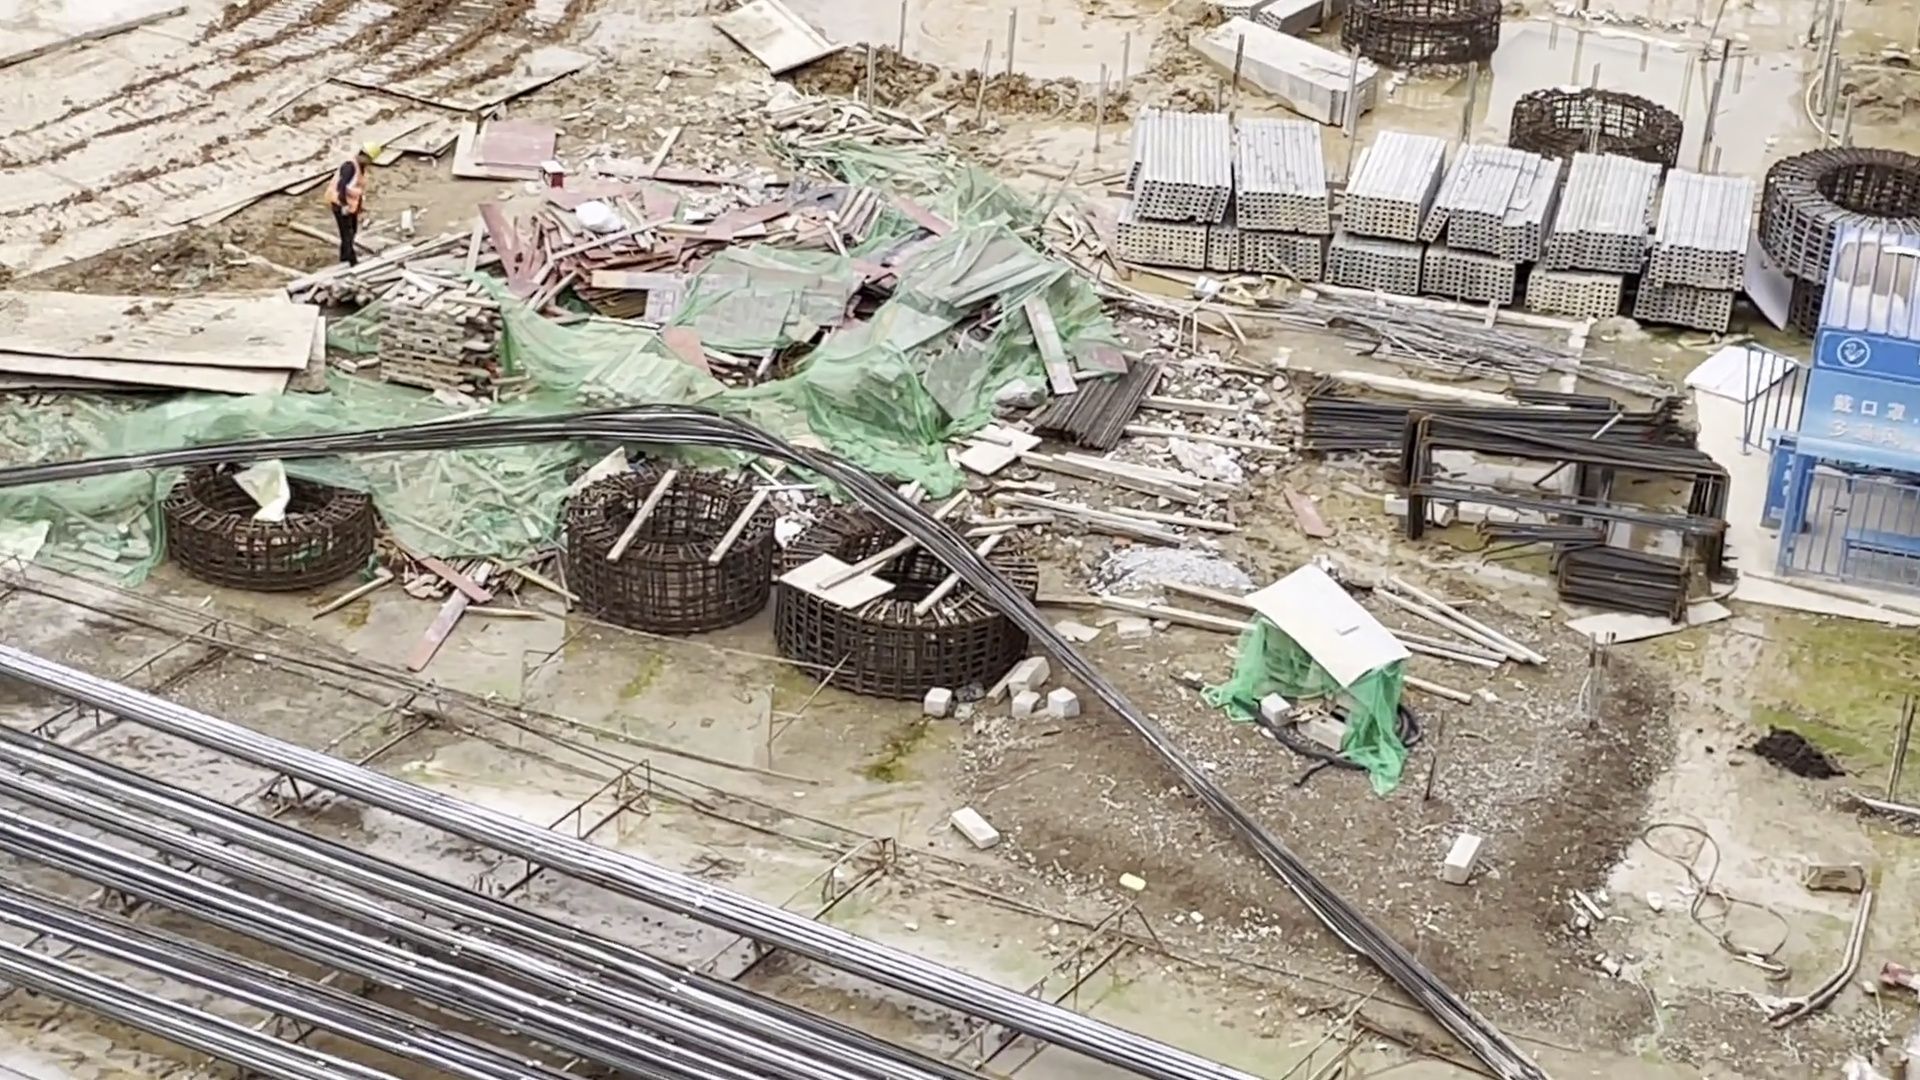board: (487, 179, 737, 303)
helmet: (361, 139, 385, 159)
person: (323, 131, 378, 268)
rebar: (39, 709, 859, 1080)
scaffold: (1112, 114, 1748, 316), (1199, 2, 1382, 128)
slogan: (1817, 348, 1920, 444)
vest: (325, 157, 370, 215)
